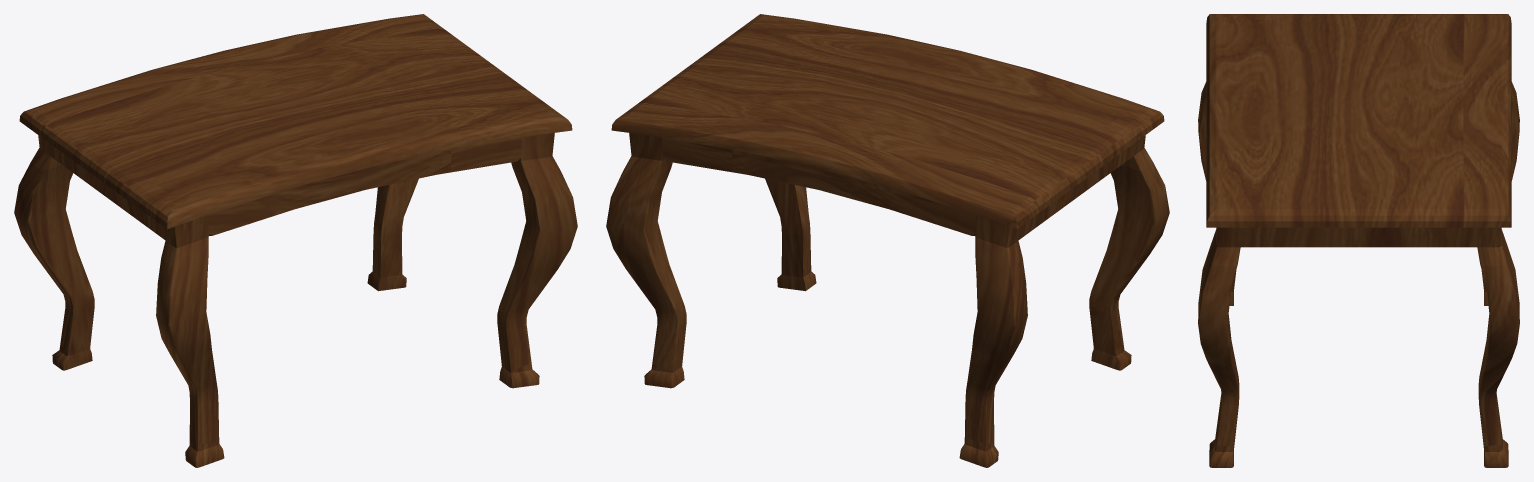
File: Bedroom_Desk.fbx
3 views of the same model, side by side, from view 1: azimuth 30°, elevation 25°; view 2: azimuth 150°, elevation 25°; view 3: azimuth 270°, elevation 25° (orthographic). The views are drawn at different scales.
Visible parts, largest first — view 1: DeskTableUVd:pCube15; view 2: DeskTableUVd:pCube15; view 3: DeskTableUVd:pCube15.
Boxes of the visible parts, x1=… form: DeskTableUVd:pCube15: x1=14, y1=14, x2=577, y2=467; DeskTableUVd:pCube15: x1=606, y1=14, x2=1169, y2=467; DeskTableUVd:pCube15: x1=1198, y1=14, x2=1519, y2=467.
Size of the model in its own units: 174 by 110 by 114.
